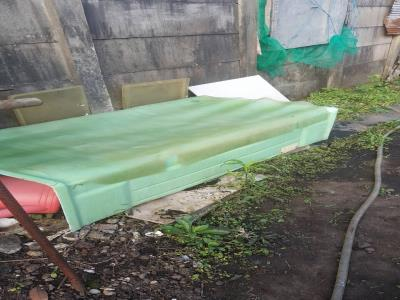plastic_bag: (1, 95, 312, 186)
